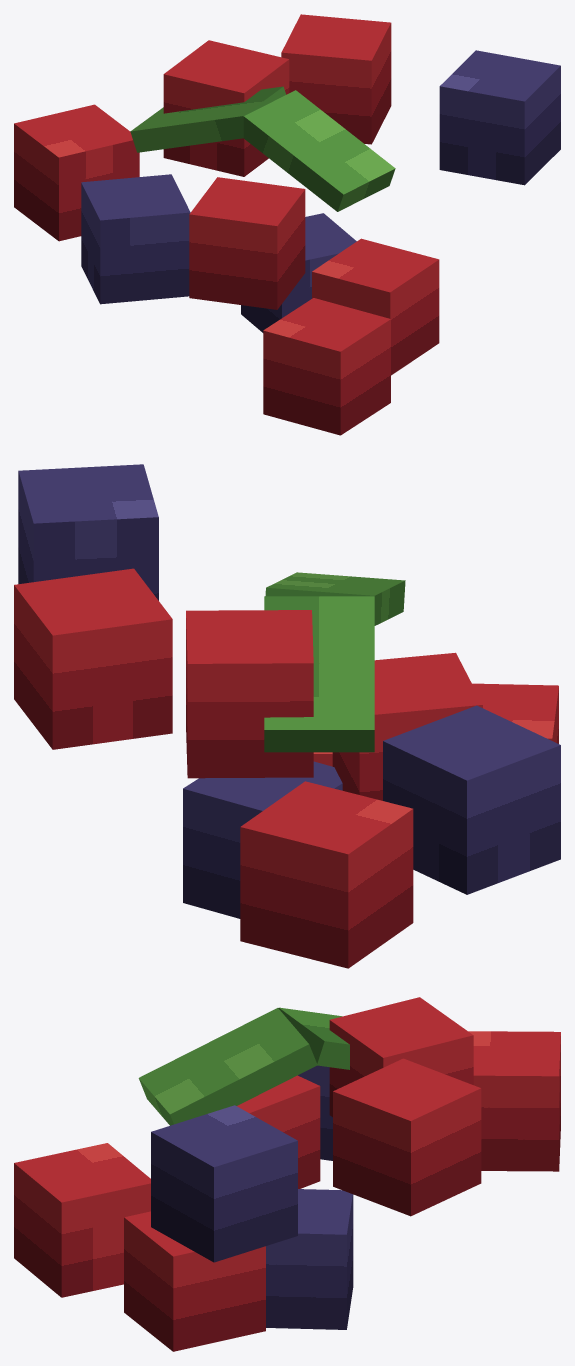
The model's file is berries.glb.
3 views of the same model, one above another, from view 1: azimuth 30°, elevation 25°; view 2: azimuth 150°, elevation 25°; view 3: azimuth 270°, elevation 25° (orthographic). The views are drawn at different scales.
Visible parts, largest first — view 1: berries; view 2: berries; view 3: berries.
Boxes of the visible parts, x1,y1,x2,y2 form: berries: (14,14,560,435); berries: (14,464,560,968); berries: (14,997,560,1351).
Size of the model in its own units: 0.2145 by 0.11 by 0.2082.
Materials: 2 (2 with a texture image).
